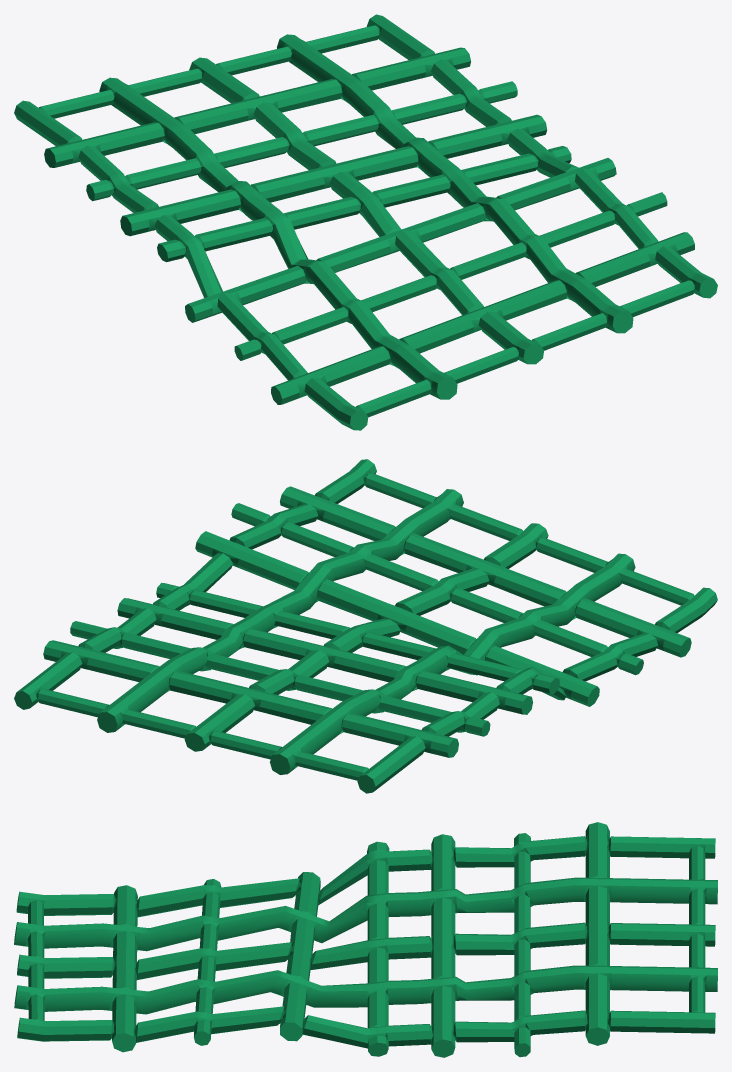
Rendered from Gyomou(masuugu).fbx.
3 views of the same model, one above another, from view 1: azimuth 30°, elevation 25°; view 2: azimuth 150°, elevation 25°; view 3: azimuth 270°, elevation 25° (orthographic). The views are drawn at different scales.
Visible parts, largest first — view 1: pCube1; view 2: pCube1; view 3: pCube1.
Boxes of the visible parts, x1,y1,x2,y2 form: pCube1: [14, 14, 717, 430]; pCube1: [14, 459, 717, 793]; pCube1: [14, 822, 717, 1057].
Size of the model in its own units: 25.74 by 4.87 by 35.69.
